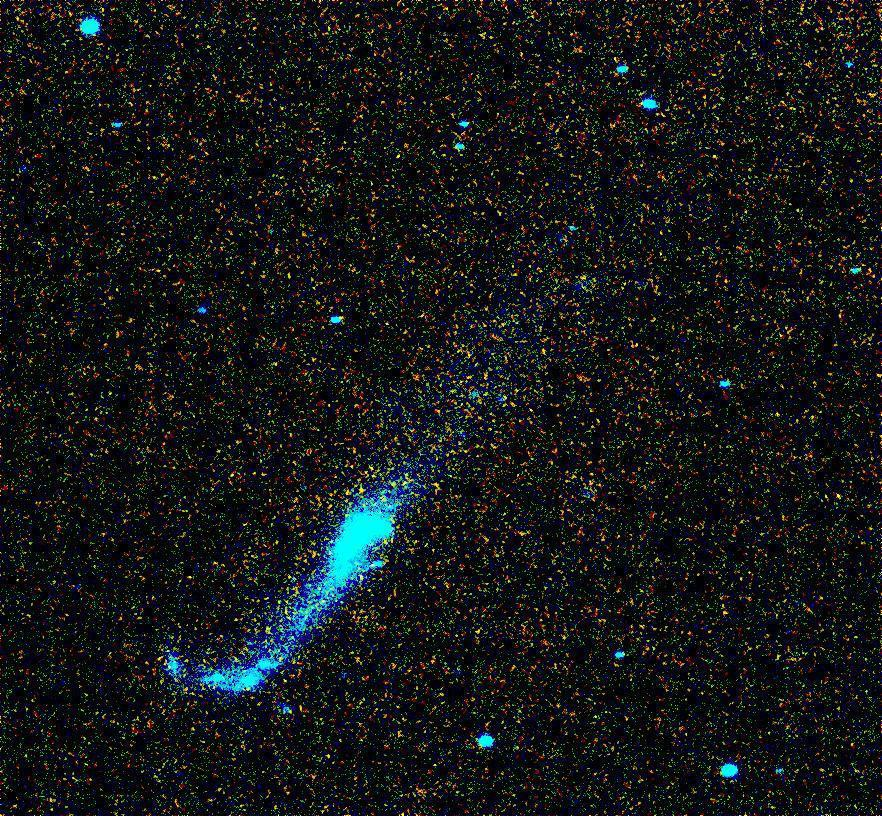star: (700, 142, 730, 172)
